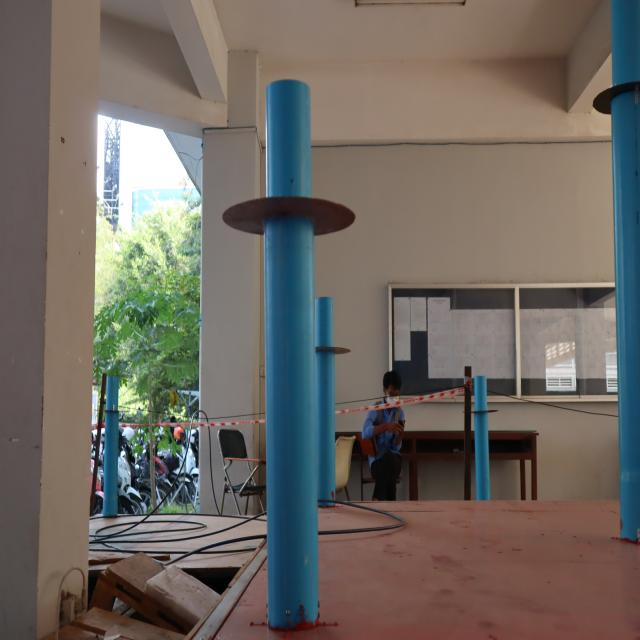pole: (223, 87, 359, 294), (310, 292, 350, 385), (462, 370, 506, 432), (100, 372, 124, 437)
